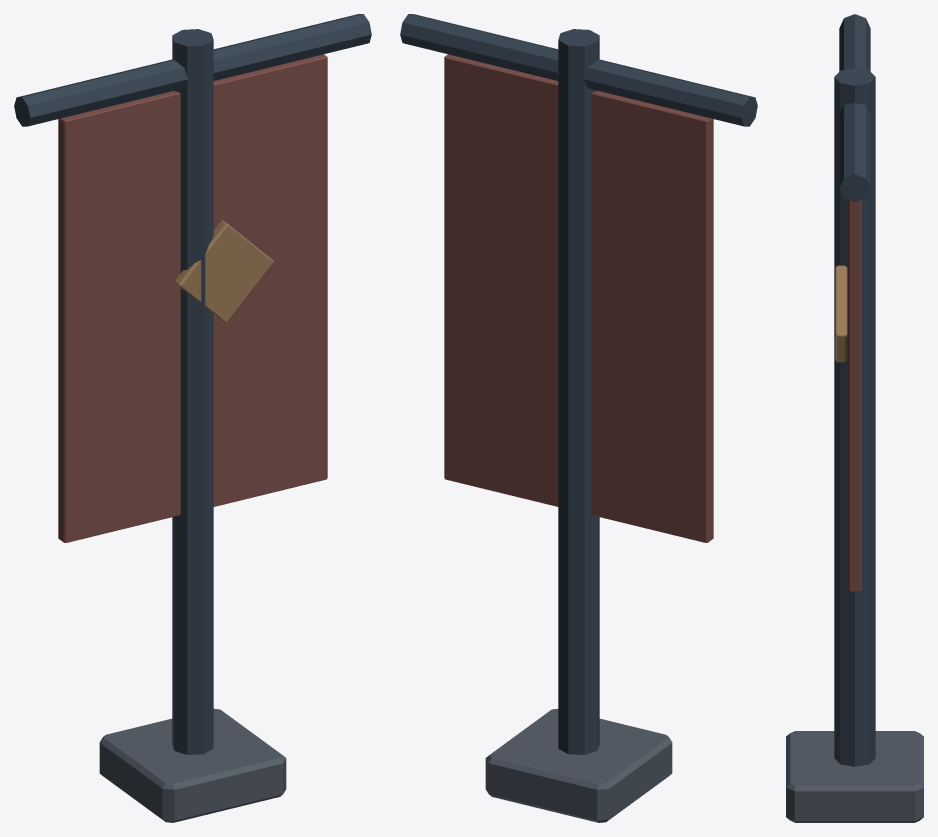
Rendered from banner-tall.glb.
The picture shows the model from 3 angles, left to right: view 1: azimuth 30°, elevation 25°; view 2: azimuth 150°, elevation 25°; view 3: azimuth 270°, elevation 25°; orthographic projection. The views are drawn at different scales.
Parts seen in each view (by area): view 1: banner-tall__body; view 2: banner-tall__body; view 3: banner-tall__body.
Part boxes in pixels (<box>): banner-tall__body: <box>14,14,371,822</box>; banner-tall__body: <box>400,14,757,822</box>; banner-tall__body: <box>786,14,923,822</box>.
Bounding box in the file's own units: 1.1 × 2.3 × 0.4.
